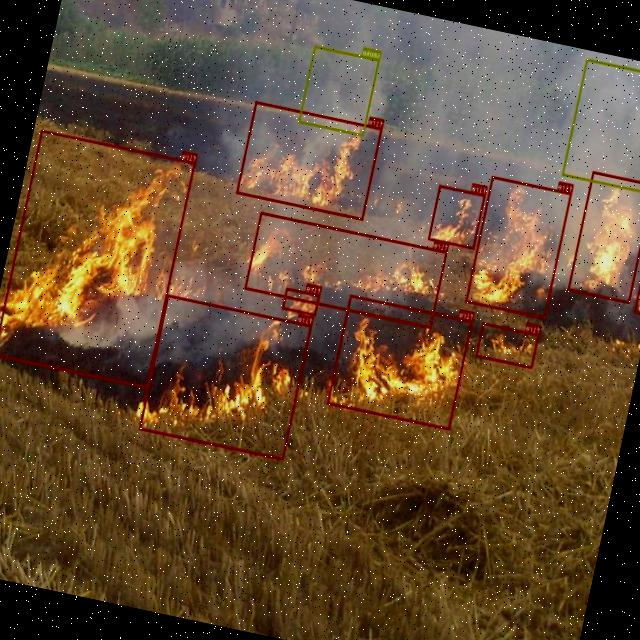fire: (0, 128, 196, 387), (139, 294, 312, 460), (244, 211, 447, 328), (327, 294, 473, 430), (235, 100, 382, 219), (465, 175, 572, 318), (567, 170, 640, 303), (428, 184, 487, 249), (476, 322, 540, 368), (282, 286, 321, 316), (634, 264, 640, 315)
smoke: (561, 58, 640, 193), (298, 45, 380, 136)
